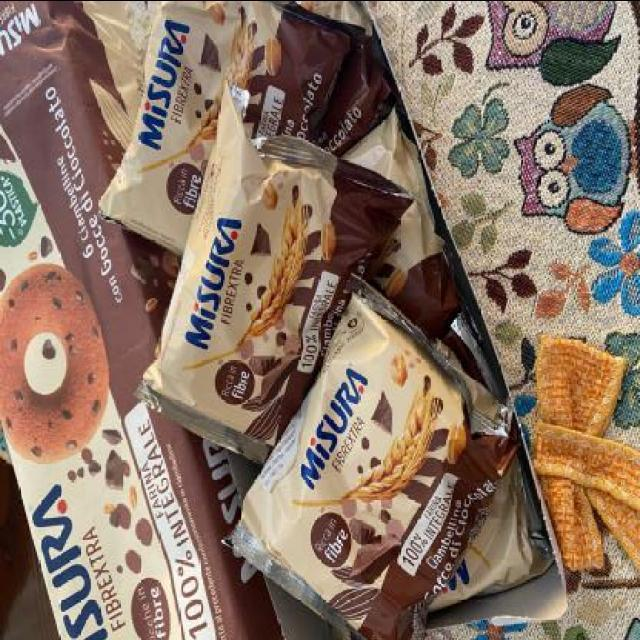Merendine: (8, 0, 226, 640), (153, 117, 405, 449), (246, 307, 508, 616), (106, 0, 349, 243)
